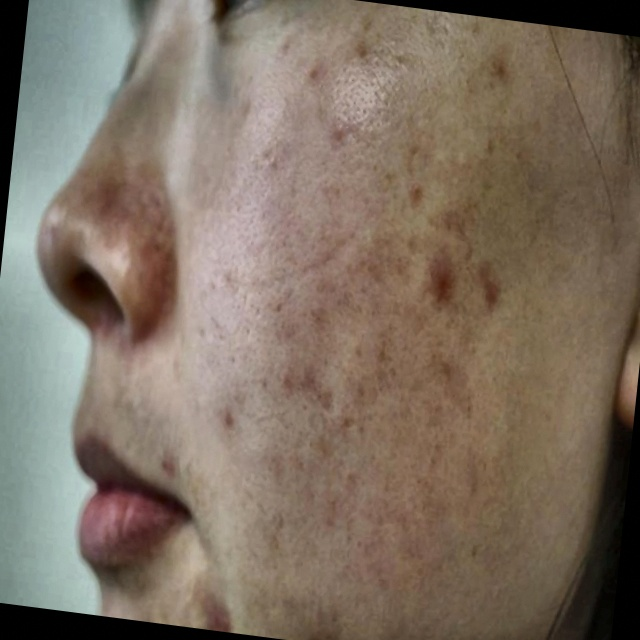comedone: (471, 253, 518, 332), (186, 570, 246, 629), (145, 432, 184, 502), (412, 262, 464, 310)
